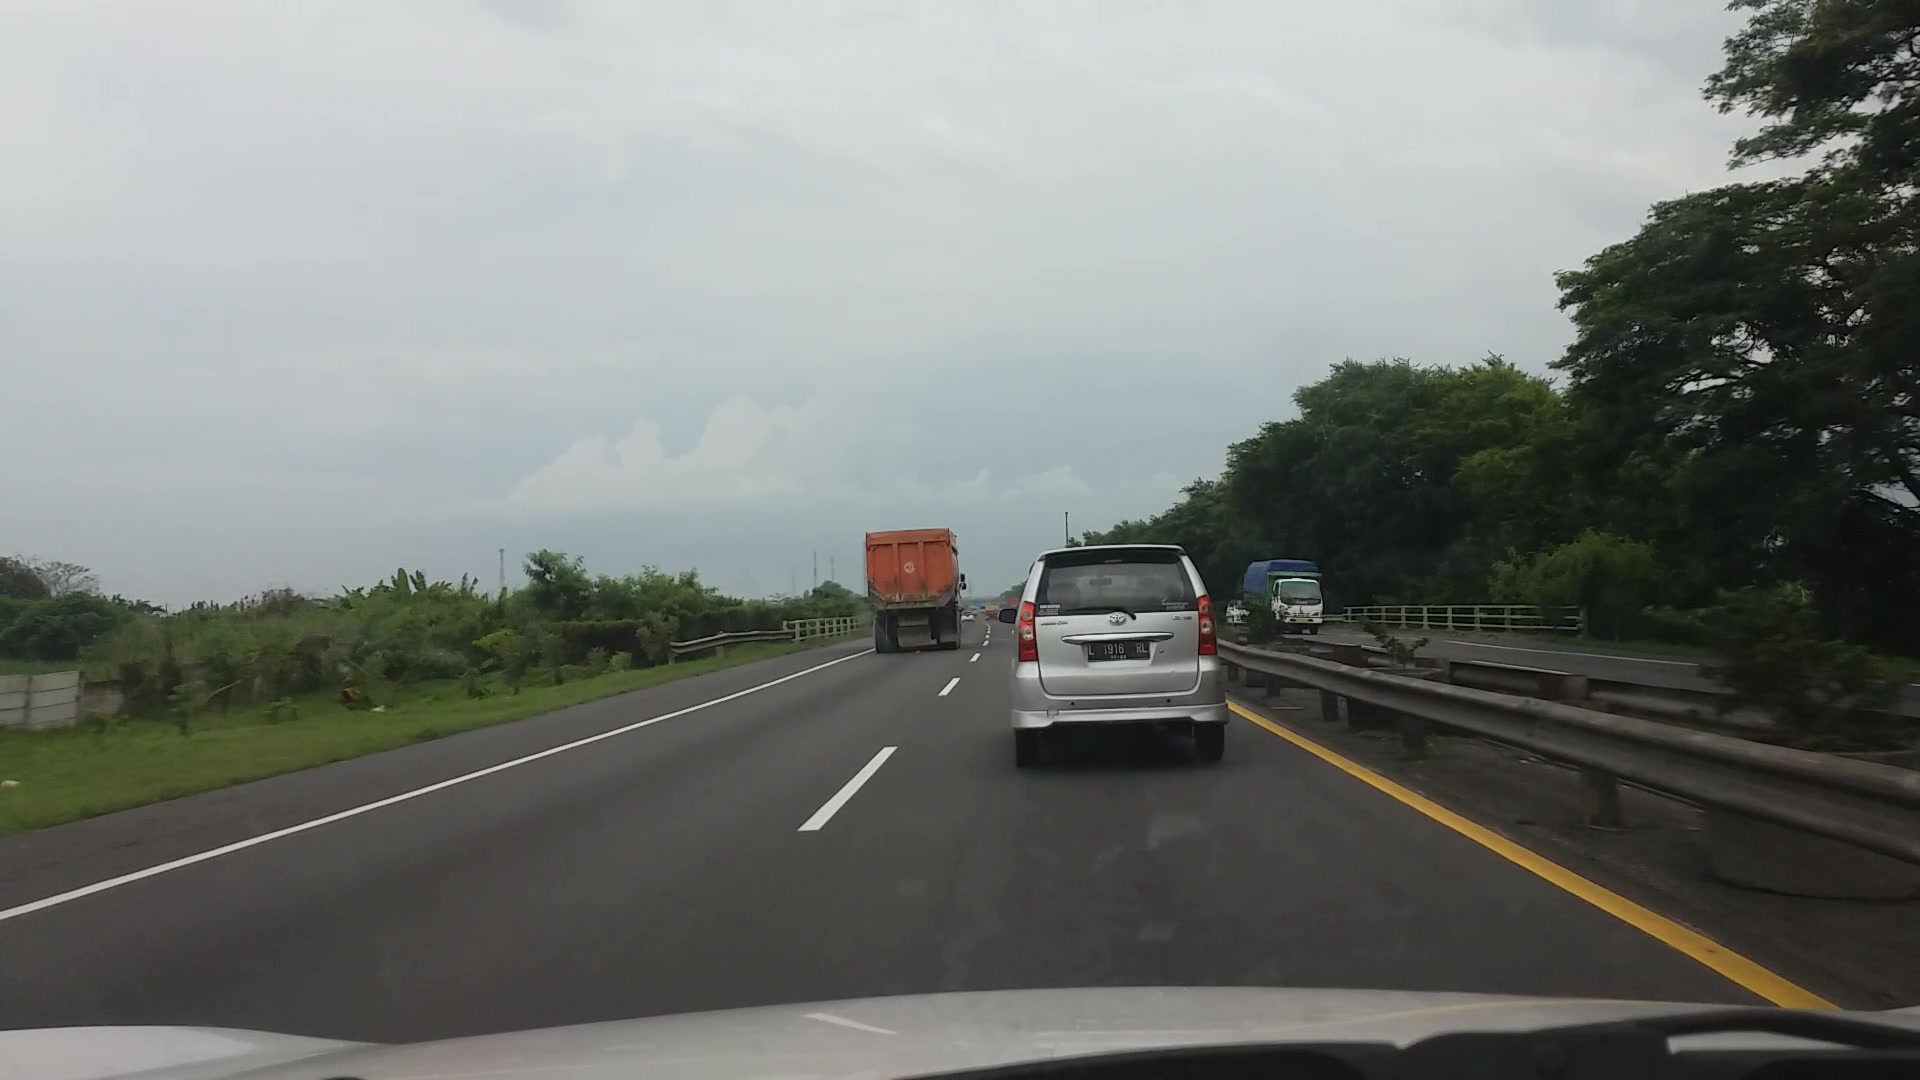plate_positive: (1087, 640, 1150, 661)
